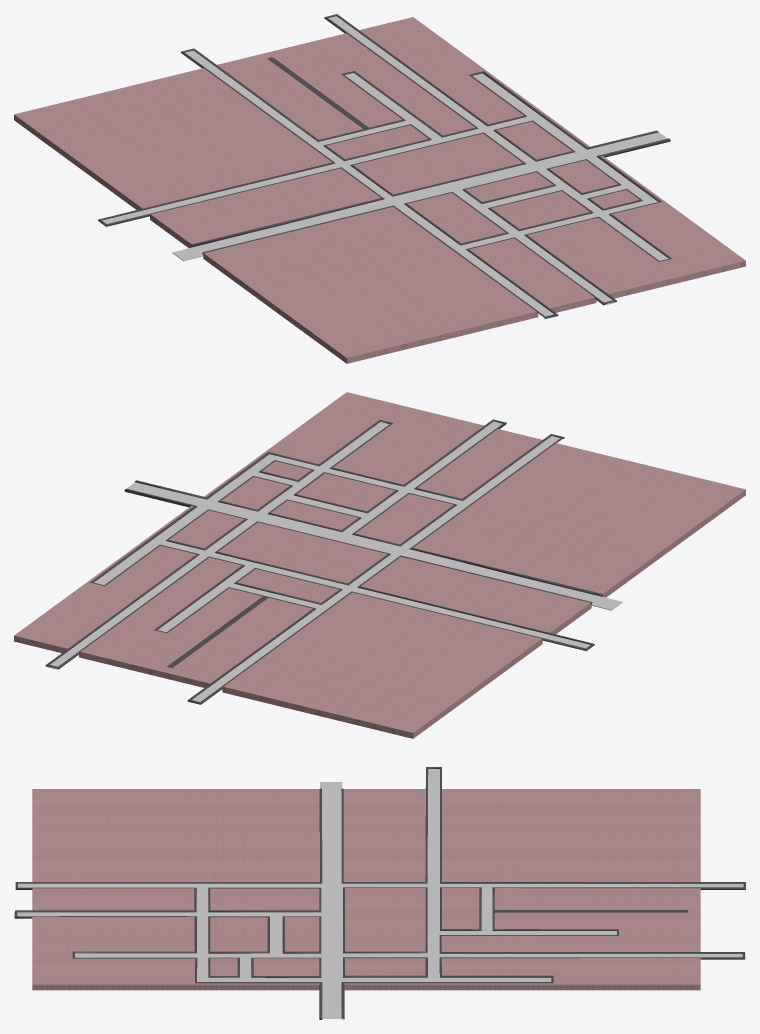
Rendered from MAPA2-.fbx.
3 renders of one model, top to bottom at view 1: azimuth 30°, elevation 25°; view 2: azimuth 150°, elevation 25°; view 3: azimuth 270°, elevation 25°, orthographic.
Parts seen in each view (by area): view 1: Cube.007, Cube, Curve.002, Curve, Curve.001, Cube.009; view 2: Cube.007, Cube, Curve.002, Curve, Curve.001, Cube.009; view 3: Cube.007, Cube, Curve.002, Curve, Cube.009, Curve.001.
Boxes of the visible parts, box(x1,y1,x2,y2) form: Cube.007: box(14, 17, 745, 363); Cube: box(102, 16, 668, 318); Curve.002: box(98, 14, 672, 318); Curve: box(482, 71, 670, 201); Curve.001: box(191, 198, 393, 254); Cube.009: box(267, 57, 368, 128); Cube.007: box(14, 392, 745, 738); Cube: box(46, 421, 622, 701); Curve.002: box(45, 419, 594, 704); Curve: box(89, 452, 269, 582); Curve.001: box(400, 548, 602, 604); Cube.009: box(167, 596, 268, 667); Cube.007: box(32, 789, 700, 990); Cube: box(14, 769, 745, 1018); Curve.002: box(15, 767, 745, 982); Curve: box(195, 982, 553, 1019); Cube.009: box(494, 910, 687, 912); Curve.001: box(319, 788, 343, 883).
Bounding box in the file's own units: 49777 × 587 × 61457.
